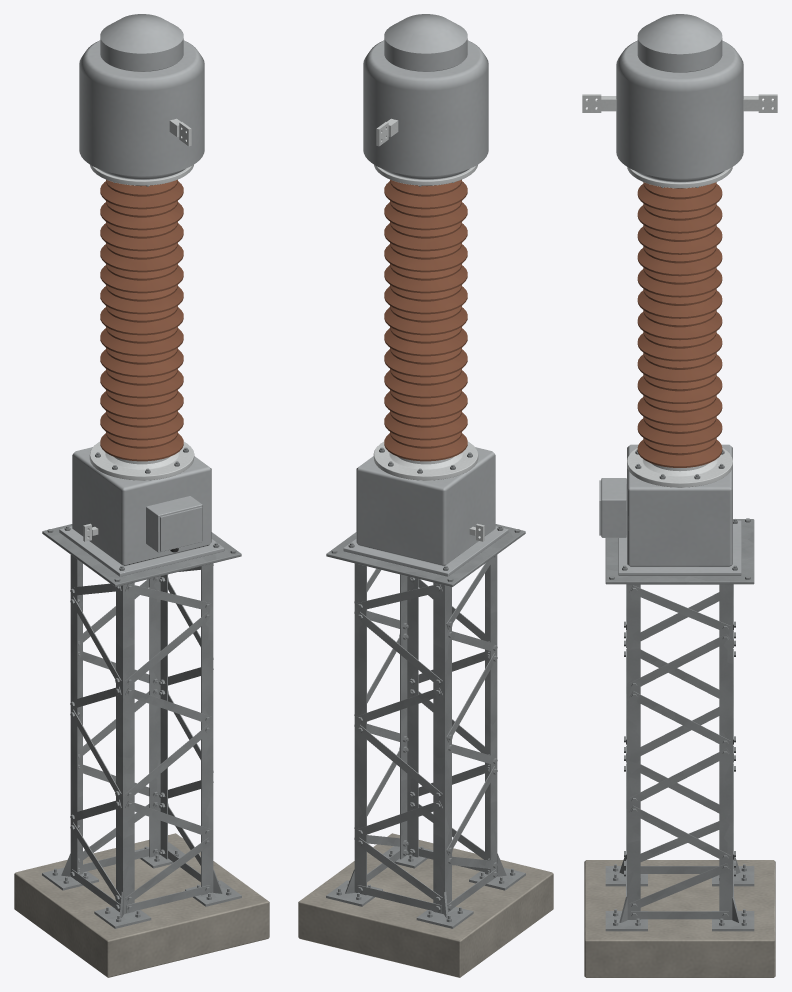
The model's file is CurrentTransformer_138kV.fbx.
The picture shows the model from 3 angles, left to right: view 1: azimuth 30°, elevation 25°; view 2: azimuth 150°, elevation 25°; view 3: azimuth 270°, elevation 25°; orthographic projection.
Parts seen in each view (by area): view 1: Body_GalvanizedSteel_LOD0, Body_CoatedSteel_LOD0, Body_PorcelainBrown_LOD0, Body_Concrete_LOD0, Body_Aluminium_LOD0; view 2: Body_GalvanizedSteel_LOD0, Body_CoatedSteel_LOD0, Body_PorcelainBrown_LOD0, Body_Concrete_LOD0, Body_Aluminium_LOD0; view 3: Body_CoatedSteel_LOD0, Body_GalvanizedSteel_LOD0, Body_PorcelainBrown_LOD0, Body_Concrete_LOD0, Body_Aluminium_LOD0.
Boxes of the visible parts, left/top/right/bottom form: Body_GalvanizedSteel_LOD0: left=42, top=182, right=241, bottom=928; Body_CoatedSteel_LOD0: left=59, top=14, right=224, bottom=576; Body_PorcelainBrown_LOD0: left=100, top=179, right=183, bottom=461; Body_Concrete_LOD0: left=14, top=833, right=269, bottom=977; Body_Aluminium_LOD0: left=83, top=118, right=194, bottom=541; Body_GalvanizedSteel_LOD0: left=326, top=182, right=525, bottom=928; Body_CoatedSteel_LOD0: left=343, top=14, right=508, bottom=576; Body_PorcelainBrown_LOD0: left=384, top=179, right=467, bottom=461; Body_Concrete_LOD0: left=298, top=833, right=553, bottom=977; Body_Aluminium_LOD0: left=373, top=118, right=484, bottom=541; Body_CoatedSteel_LOD0: left=599, top=14, right=743, bottom=575; Body_GalvanizedSteel_LOD0: left=605, top=187, right=754, bottom=931; Body_PorcelainBrown_LOD0: left=637, top=182, right=722, bottom=467; Body_Concrete_LOD0: left=584, top=860, right=775, bottom=977; Body_Aluminium_LOD0: left=582, top=94, right=777, bottom=487.
Size of what is drawn, in the model's own units: 0.9 by 4.77 by 0.92.
